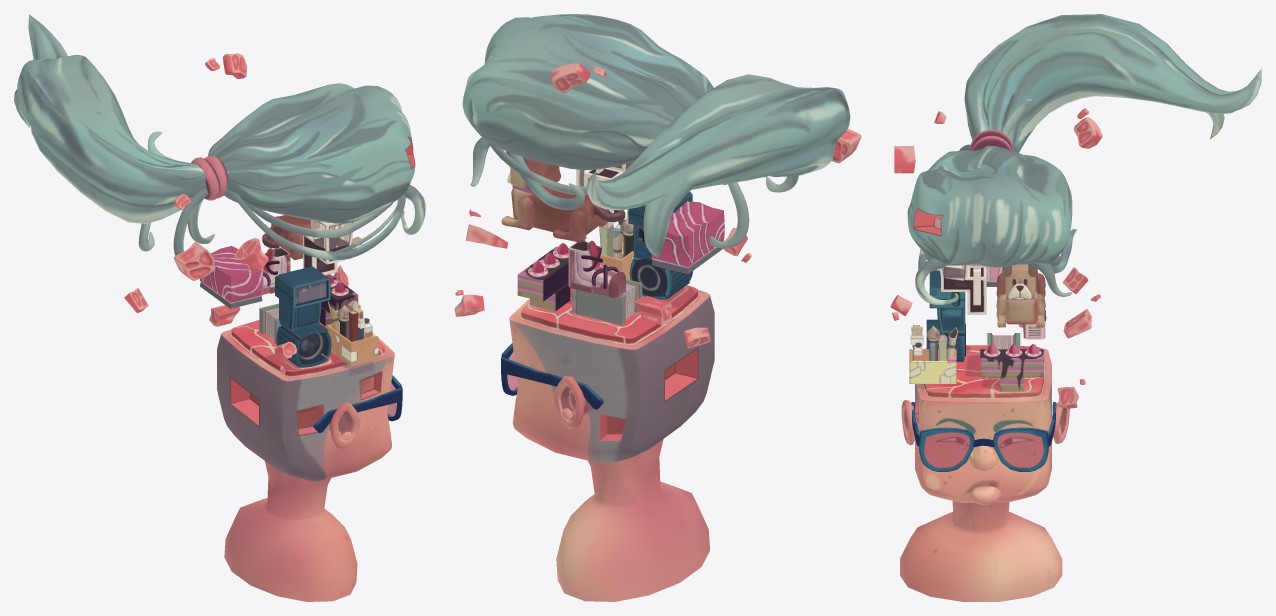
Rendered from artgal.glb.
3 renders of one model, left to right at view 1: azimuth 30°, elevation 25°; view 2: azimuth 150°, elevation 25°; view 3: azimuth 270°, elevation 25°, orthographic. The views are drawn at different scales.
Visible parts, largest first — view 1: Object_2; view 2: Object_2; view 3: Object_2.
Part boxes in pixels (bbox=[...]): Object_2: bbox=[14, 14, 425, 601]; Object_2: bbox=[454, 14, 861, 601]; Object_2: bbox=[890, 14, 1261, 601].
Bounding box in the file's own units: 19.74 × 29.05 × 20.45.
Materials: 1 (1 with a texture image).
